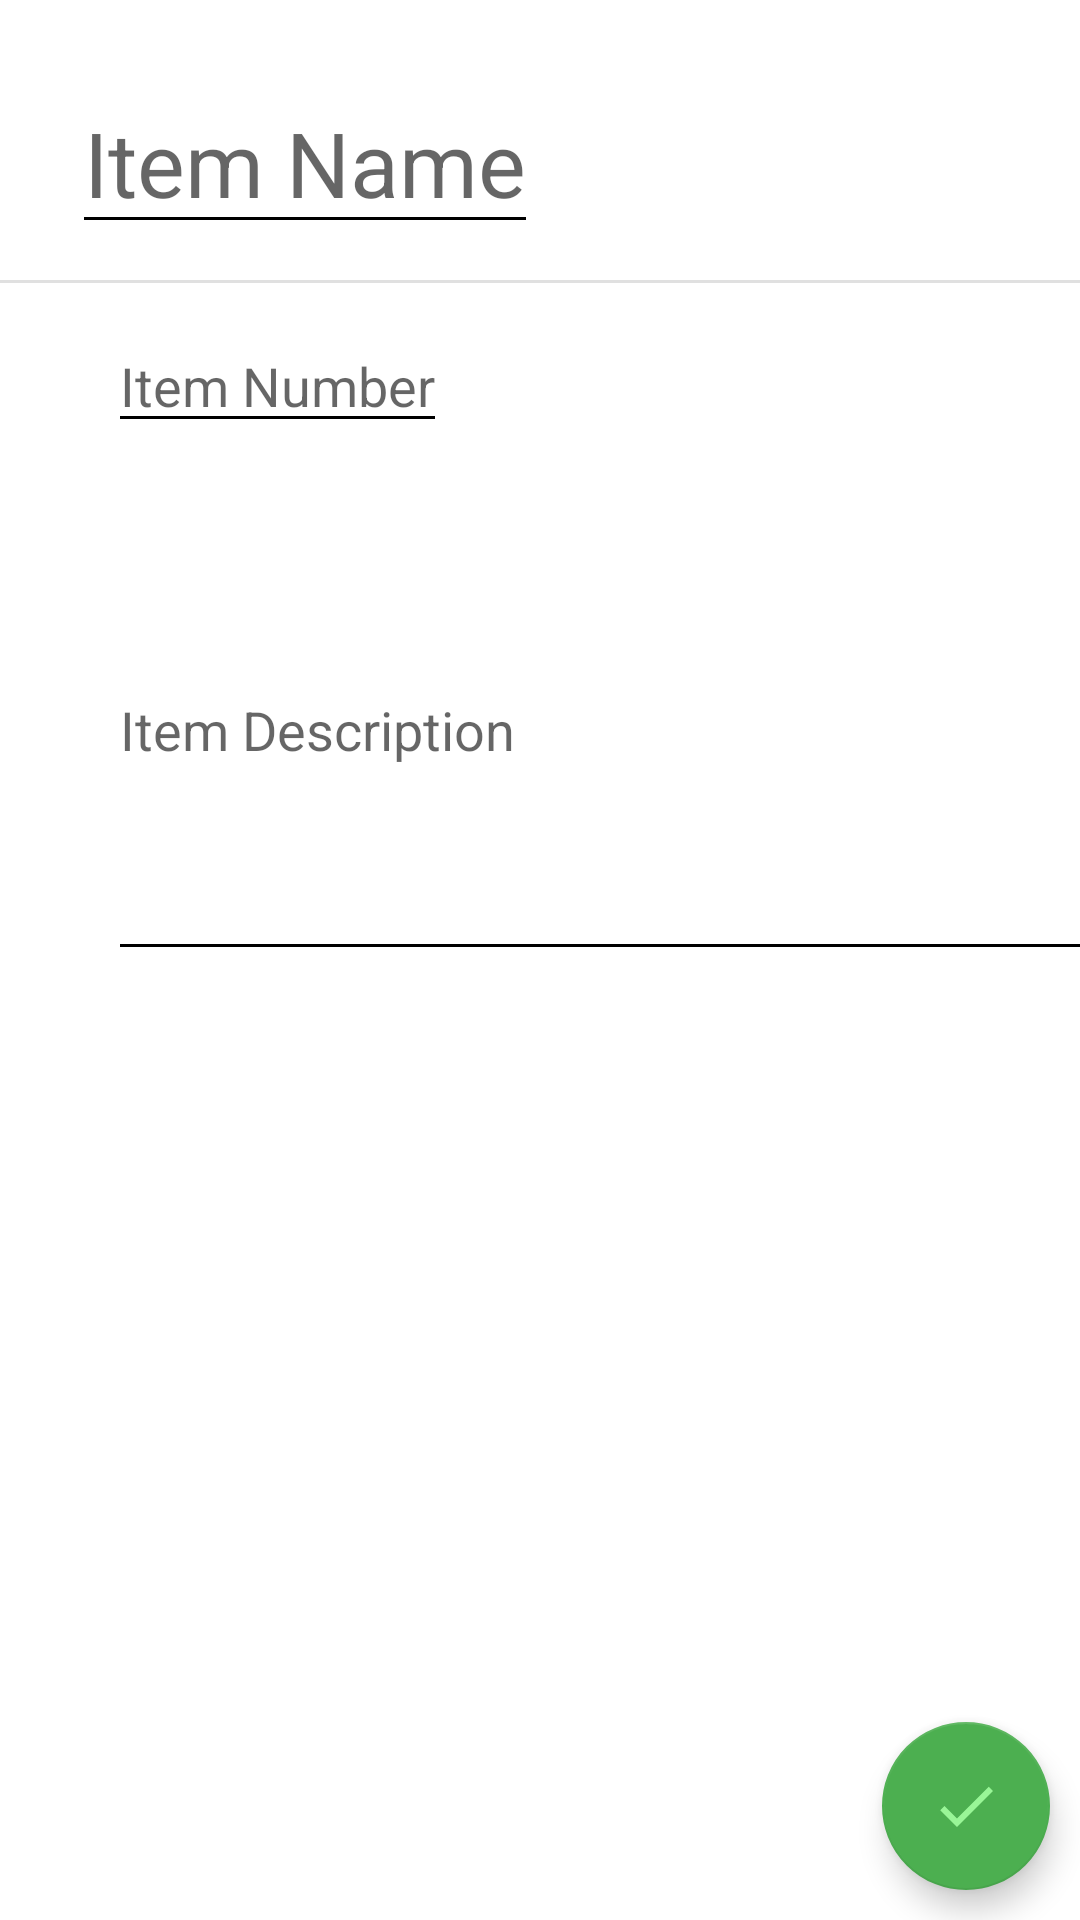

Icon bounding boxes for this 1080px x 1920px phone screenshot, format [x1,y1,x2,y2]:
check: [882,1722,1050,1890]
